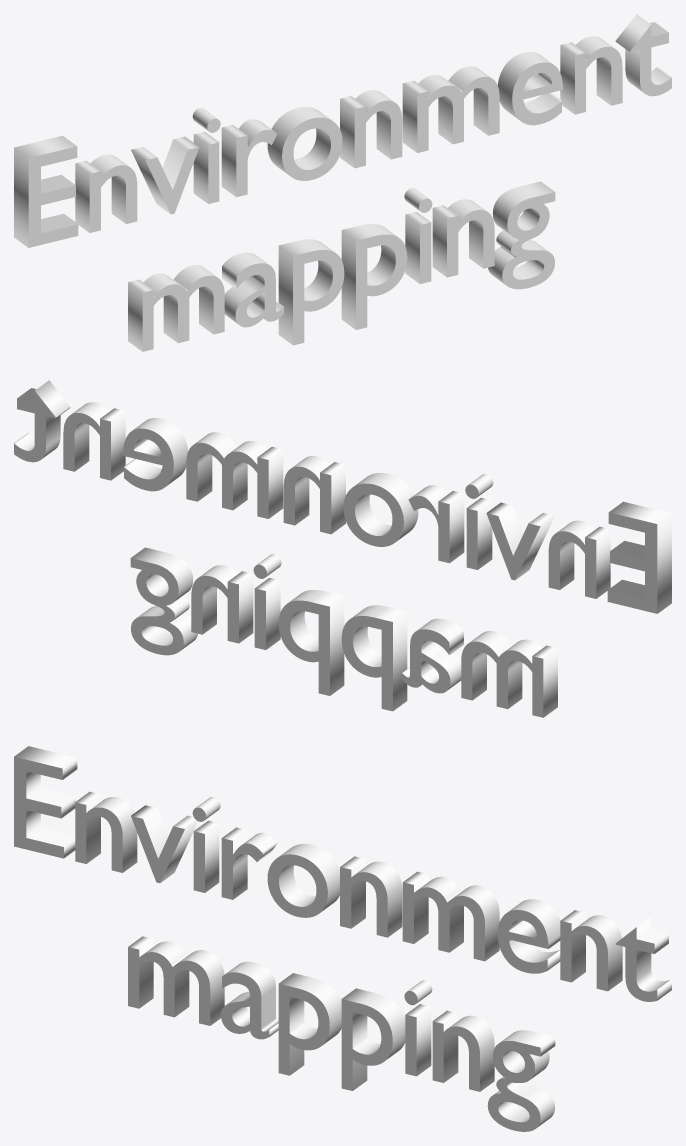
Rendered from environment_mapping.obj.
The picture shows the model from 3 angles, top to bottom: view 1: azimuth 30°, elevation 25°; view 2: azimuth 150°, elevation 25°; view 3: azimuth 330°, elevation 25°; orthographic projection.
Parts seen in each view (by area): view 1: Text_Text_Material.002; view 2: Text_Text_Material.002; view 3: Text_Text_Material.002.
Part boxes in pixels (x1,y1,x2,y2): Text_Text_Material.002: (14,14,671,351); Text_Text_Material.002: (14,380,671,717); Text_Text_Material.002: (14,746,671,1131).
Bounding box in the file's own units: 5.11 × 1.91 × 0.2.
Materials: 1 (1 with a texture image).
